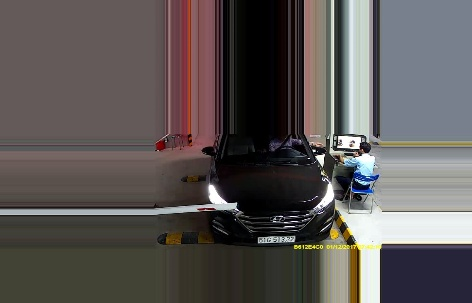plate: (255, 233, 297, 245)
